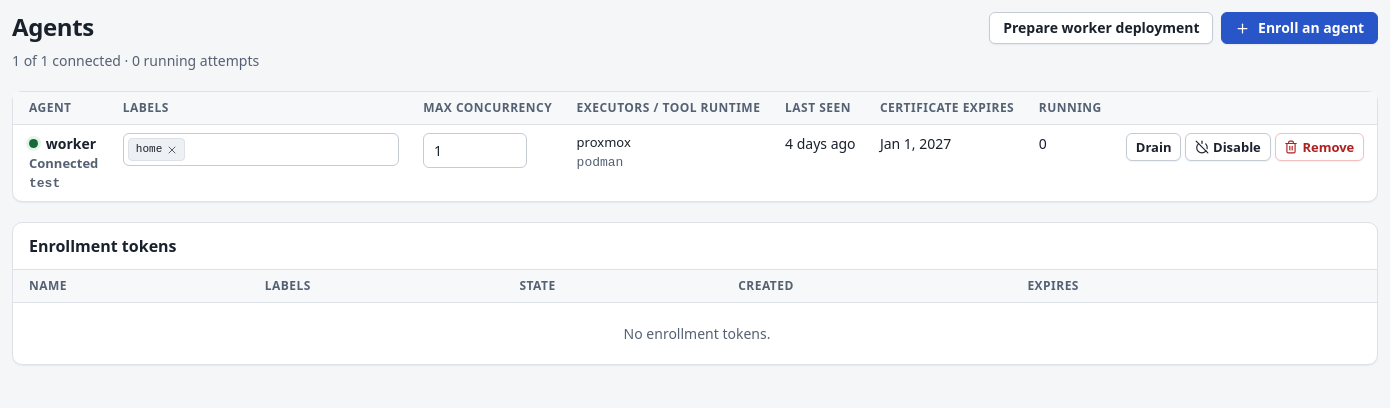
drains scheduling separately from disabling an agent
The width and height of the screenshot is (1390, 408).
Click the button "Drain": (1154, 147) [1126,133,1181,161]
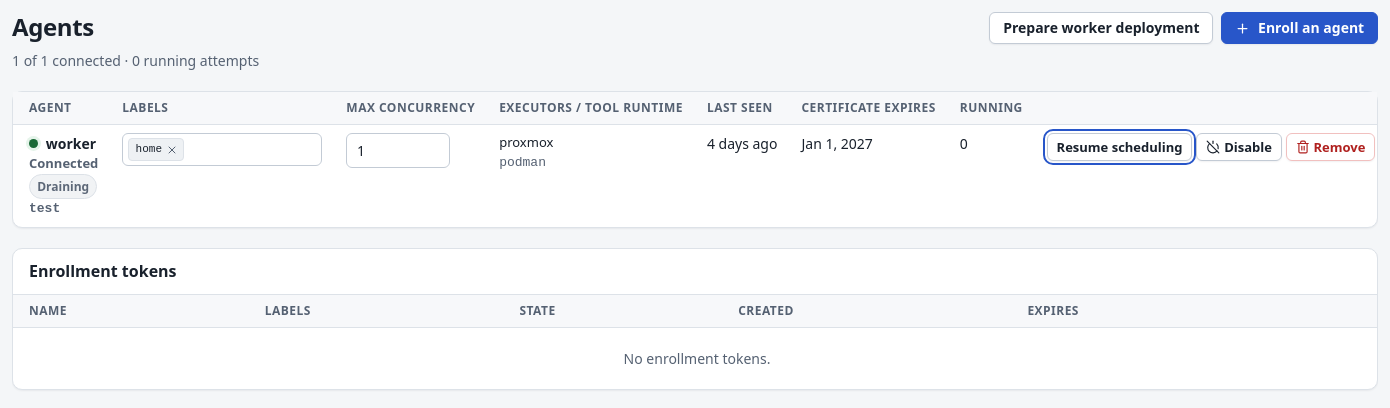
Check: the text "Connected" is shown, box [29,154,98,172]
Check: the button "Resume scheduling" is shown, box [1047,133,1192,161]
